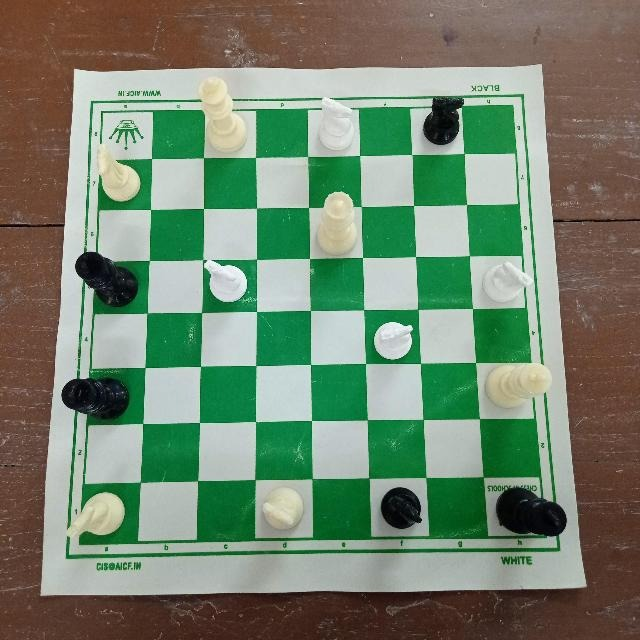black-king: (72, 250, 141, 310), (495, 486, 566, 542), (61, 374, 133, 424)
black-knight: (418, 89, 469, 148), (376, 481, 426, 537)
white-king: (192, 74, 249, 152), (484, 358, 552, 416), (315, 185, 360, 257)
white-knight: (61, 486, 126, 540), (92, 142, 144, 206), (477, 260, 533, 307), (315, 95, 360, 153), (202, 258, 252, 309), (258, 482, 306, 533), (371, 317, 417, 361)
